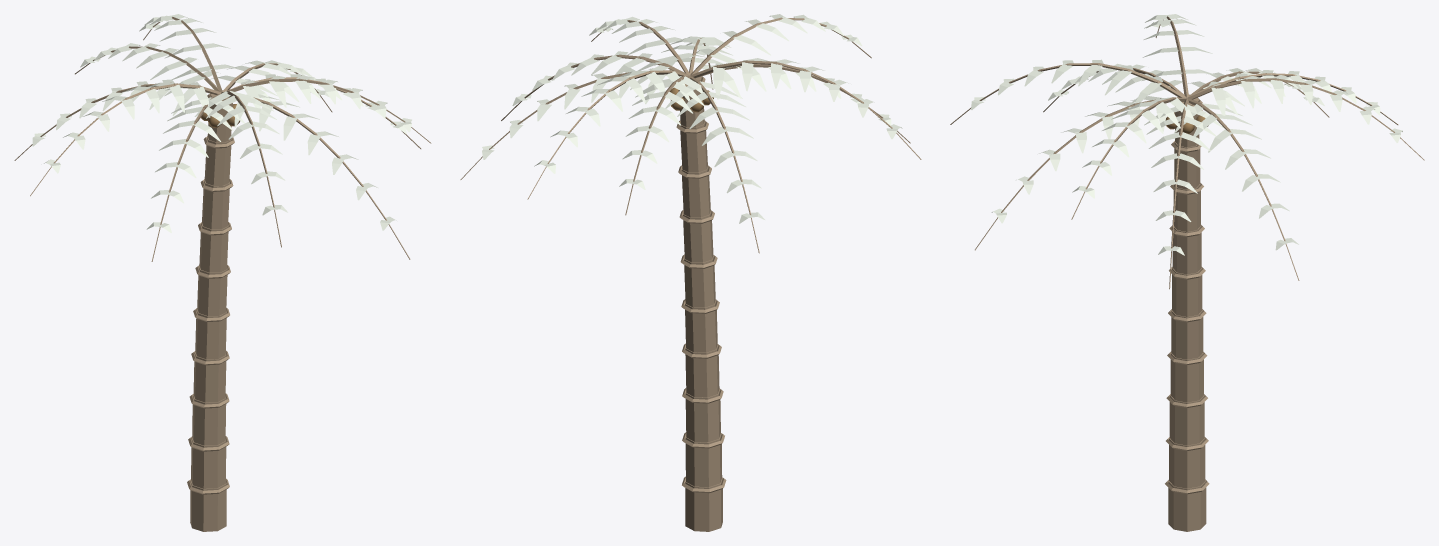
File: palm.glb
3 renders of one model, left to right at view 1: azimuth 30°, elevation 25°; view 2: azimuth 150°, elevation 25°; view 3: azimuth 270°, elevation 25°, orthographic. The views are drawn at different scales.
Parts seen in each view (by area): view 1: palm; view 2: palm; view 3: palm.
Boxes of the visible parts, x1=… form: palm: x1=14, y1=14, x2=431, y2=531; palm: x1=460, y1=14, x2=921, y2=531; palm: x1=950, y1=14, x2=1424, y2=531.
Size of the model in its own units: 7.33 by 8.03 by 7.49.
